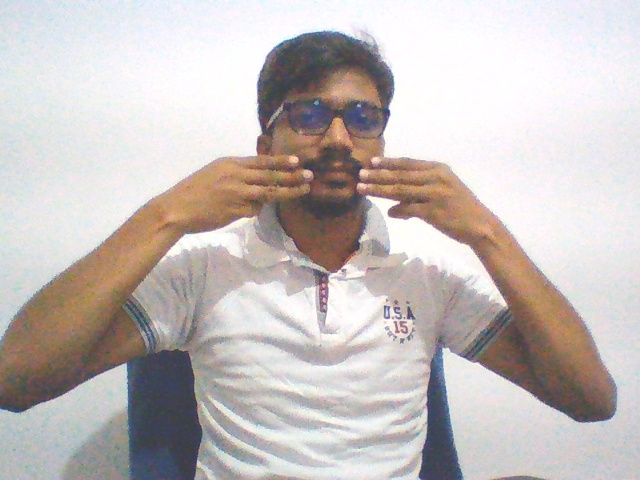cat: (146, 151, 500, 245)
